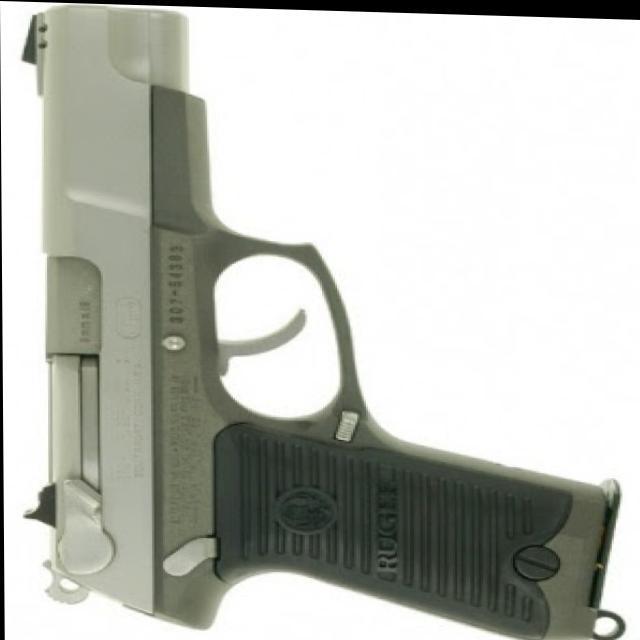handgun: (17, 1, 622, 639)
